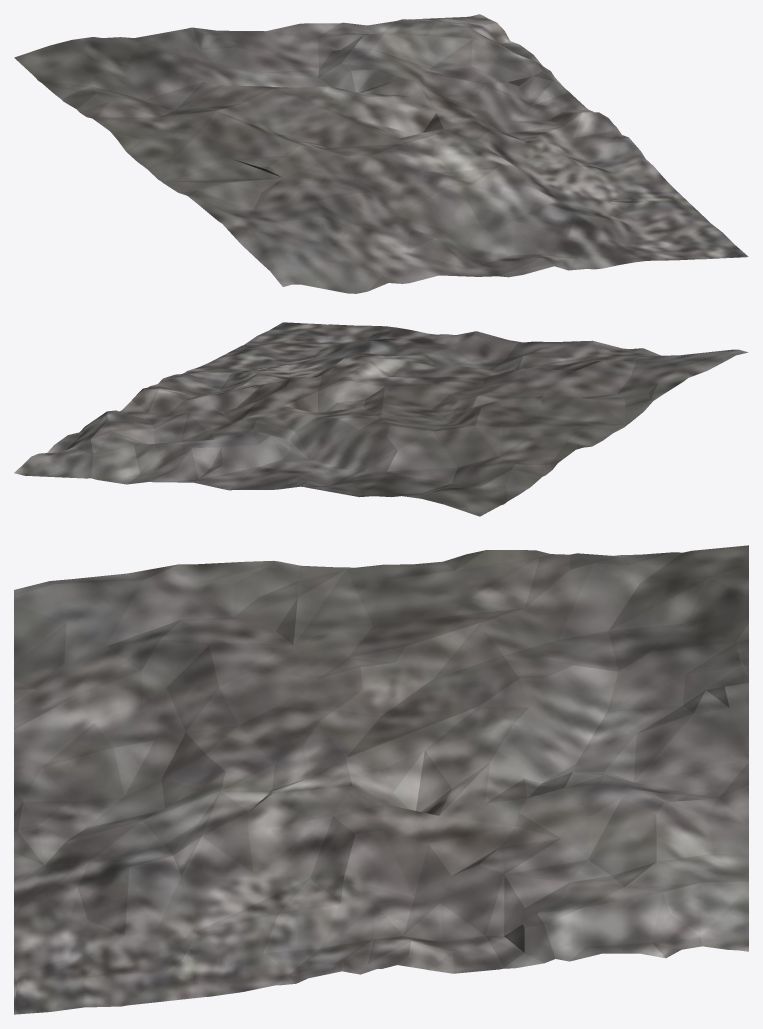
3 views of the same model, one above another, from view 1: azimuth 30°, elevation 25°; view 2: azimuth 150°, elevation 25°; view 3: azimuth 270°, elevation 25° (orthographic). The views are drawn at different scales.
Bounding box in the file's own units: 0.8374 × 0.2057 × 0.8374.
2 materials, 2 textured.
